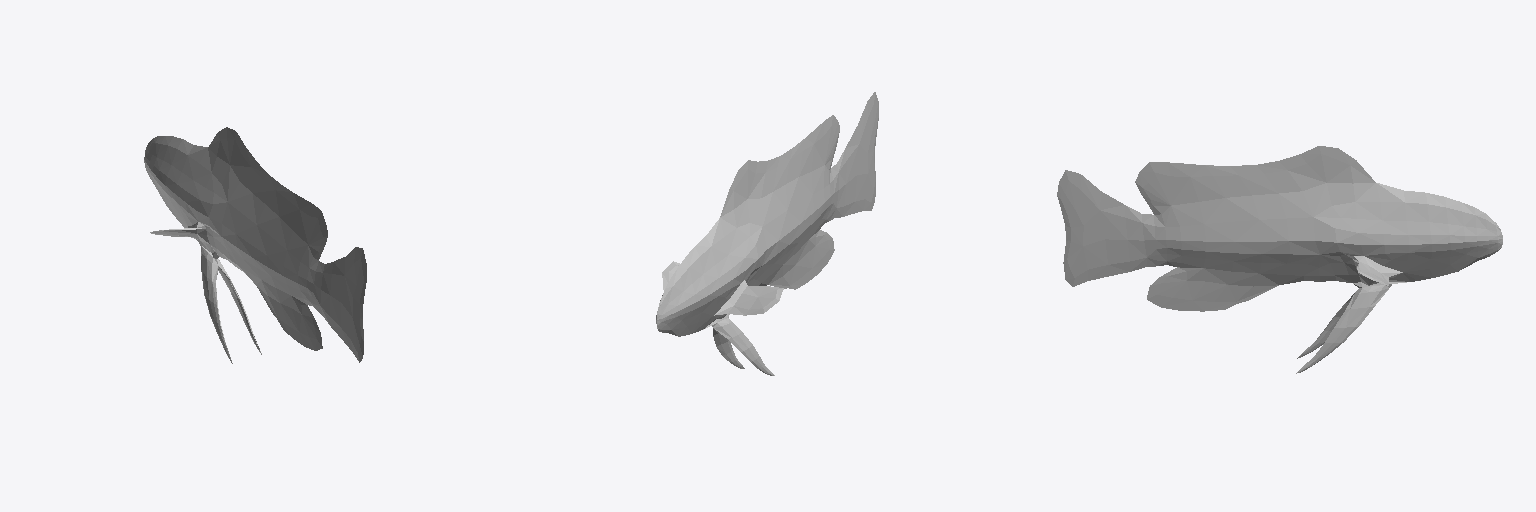
The model's file is bassletmedresUVanim.obj.
3 renders of one model, left to right at view 1: azimuth 30°, elevation 25°; view 2: azimuth 150°, elevation 25°; view 3: azimuth 270°, elevation 25°, orthographic.
Visible parts, largest first — view 1: Plane; view 2: Plane; view 3: Plane.
Boxes of the visible parts, box(x1,y1,x2,y2) form: Plane: box(144, 127, 366, 363); Plane: box(656, 92, 878, 375); Plane: box(1057, 146, 1502, 373).
Bounding box in the file's own units: 2.75 × 4.94 × 9.03.